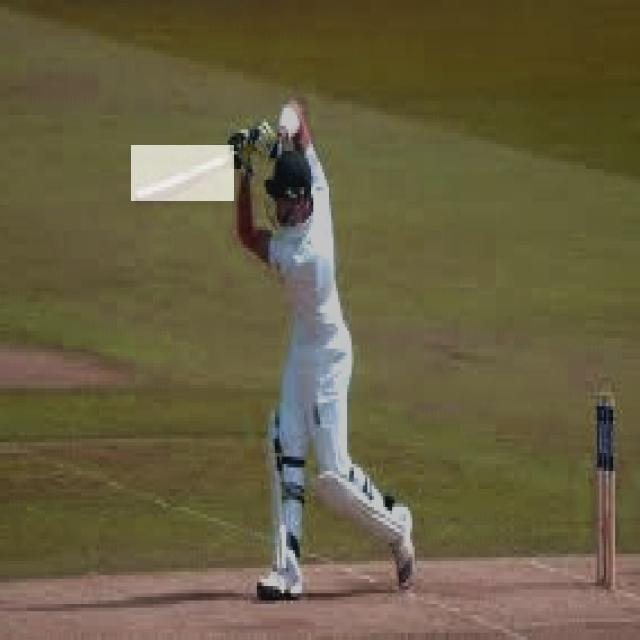bat: (132, 145, 235, 206)
toe: (126, 188, 156, 209)
